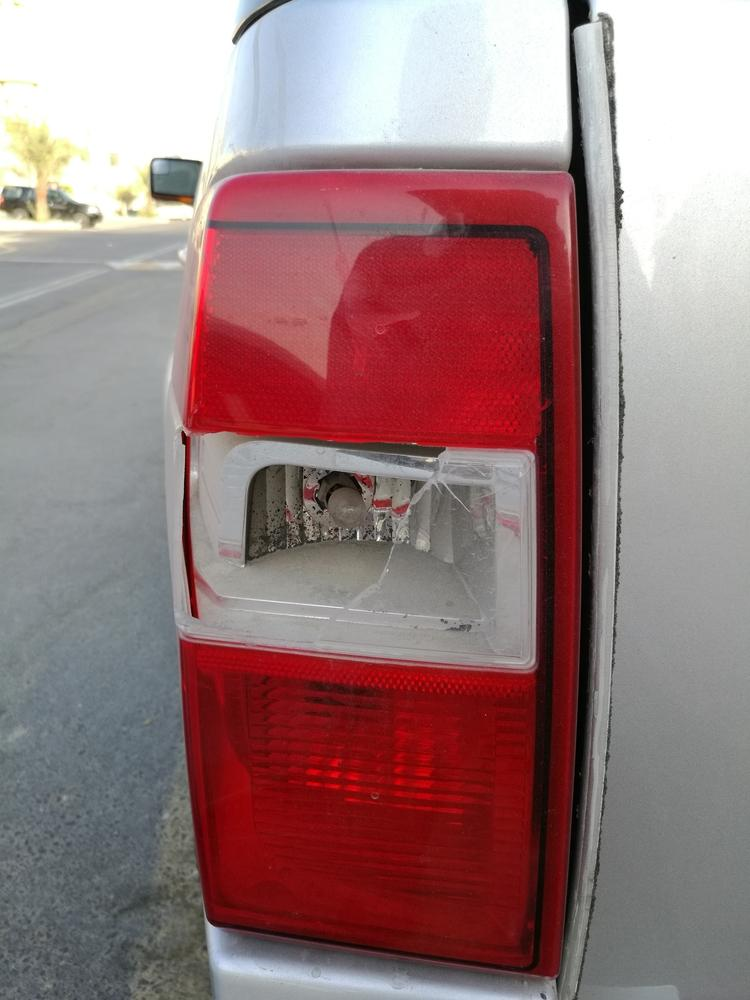lamp broken: (164, 165, 588, 982)
